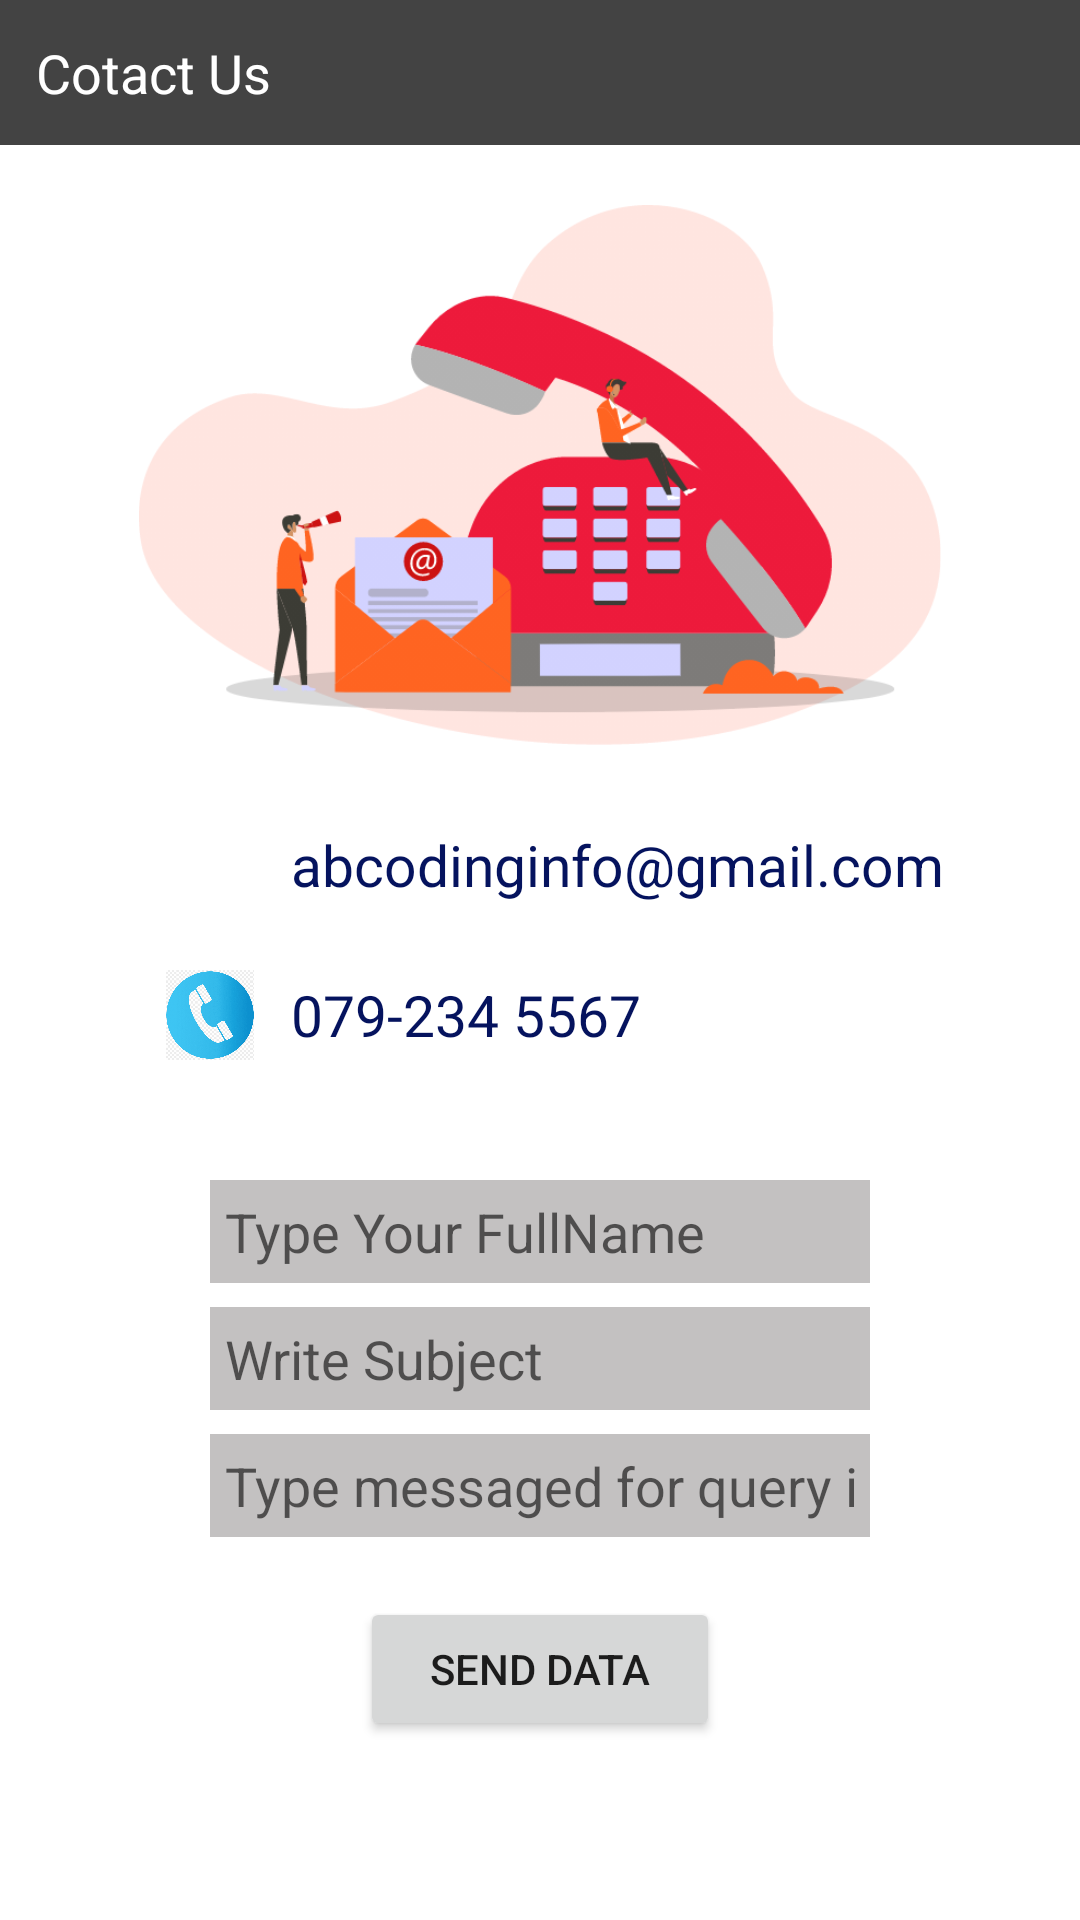

Icon click points for this 1080 × 1920 phone screenshot, format point (x, y):
contact call: point (210, 1015)
